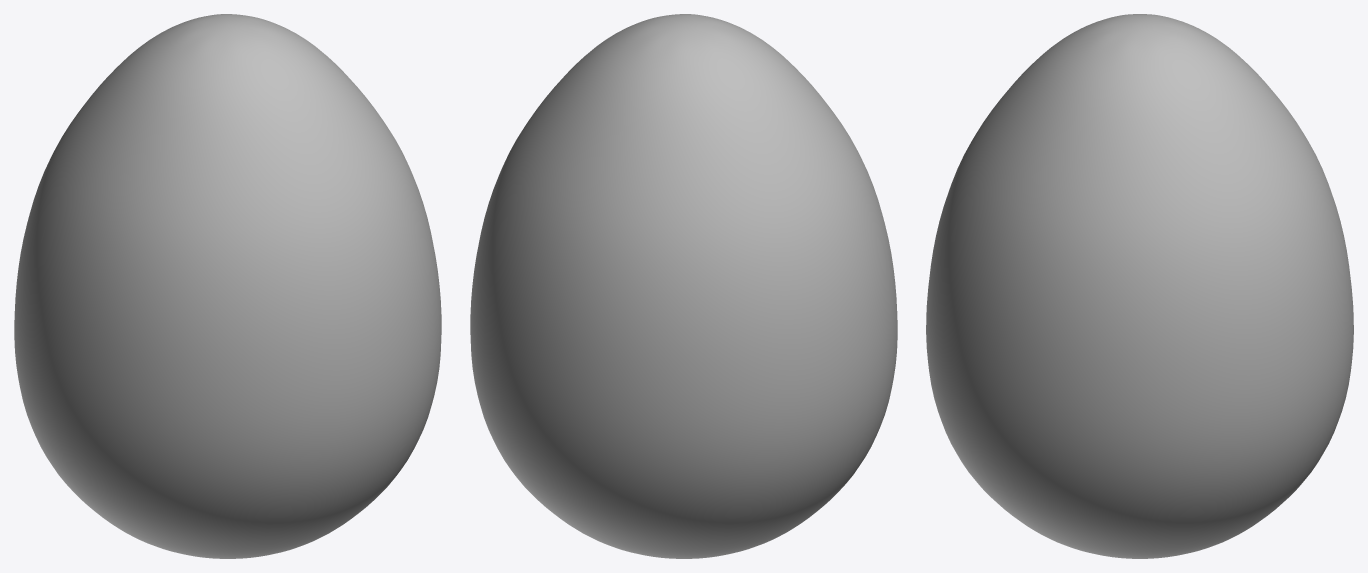
3 views of the same model, side by side, from view 1: azimuth 30°, elevation 25°; view 2: azimuth 150°, elevation 25°; view 3: azimuth 270°, elevation 25° (orthographic).
Parts seen in each view (by area): view 1: Cylinder001; view 2: Cylinder001; view 3: Cylinder001.
Boxes of the visible parts, <box> form: Cylinder001: <box>14,14,441,558</box>; Cylinder001: <box>470,14,897,558</box>; Cylinder001: <box>926,14,1353,558</box>.
Bounding box in the file's own units: 0.432 × 0.5727 × 0.432.
1 material, 1 textured.
